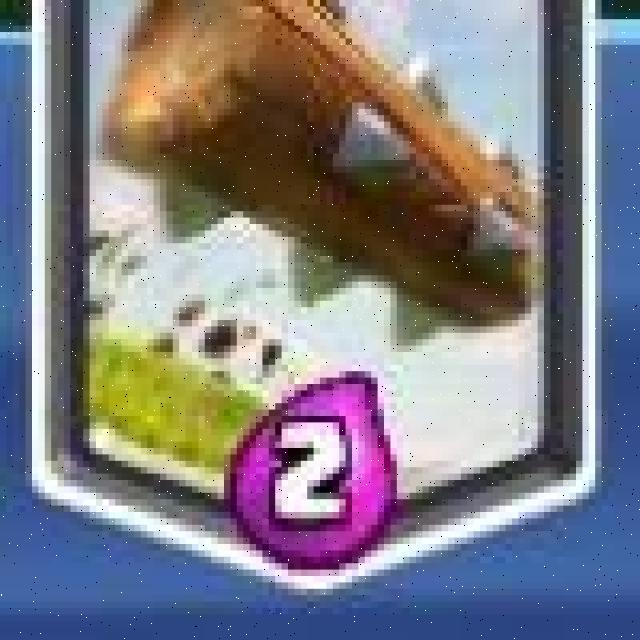Log: (25, 0, 601, 609)
